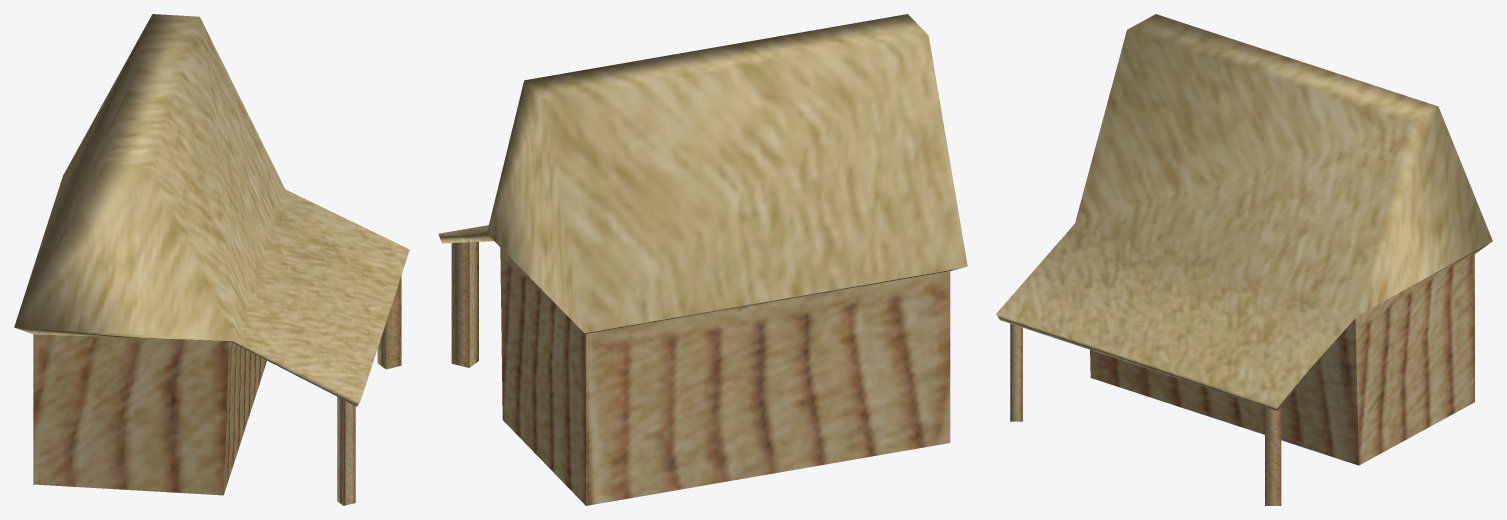
The model's file is Village_HouseSmall.fbx.
3 views of the same model, side by side, from view 1: azimuth 30°, elevation 25°; view 2: azimuth 150°, elevation 25°; view 3: azimuth 270°, elevation 25° (orthographic). The views are drawn at different scales.
Parts seen in each view (by area): view 1: House_Small; view 2: House_Small; view 3: House_Small.
Part boxes in pixels (x1=…): House_Small: x1=14, y1=14, x2=409, y2=505; House_Small: x1=438, y1=14, x2=967, y2=505; House_Small: x1=996, y1=14, x2=1492, y2=505.
Bounding box in the file's own units: 8.61 × 6.26 × 8.76.
